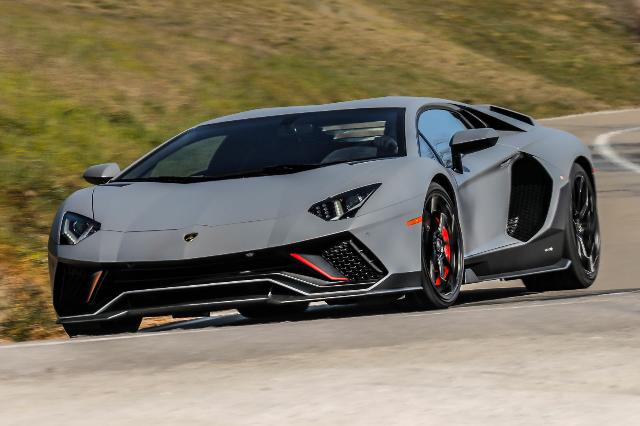lamborghini: (48, 94, 602, 338)
